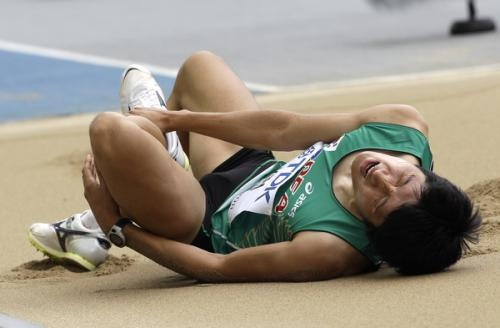falling: (24, 29, 484, 297)
